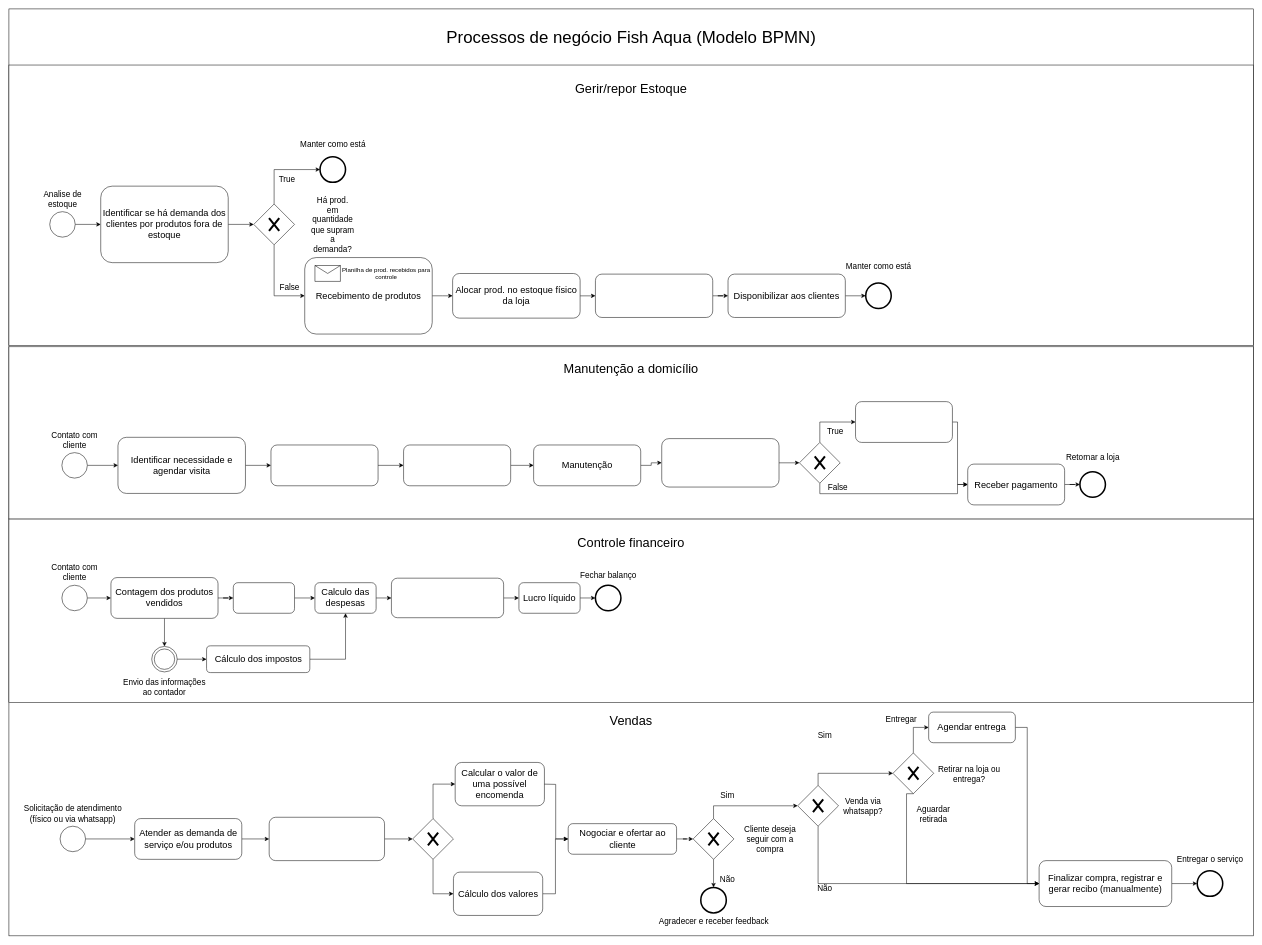
Some shapes in this 1262 by 945 pixel diagram are drawn without their labels. Here are the shapes that lost their labels. From the top down, the centre of each, then its label:
At (x=654, y=295): "Precificação manual dos produtos (sem código de barras)".
At (x=903, y=421): "Agendar nova visita".
At (x=324, y=465): "Separar equipamentos".
At (x=457, y=465): "Locomover-se ao espaço".
At (x=720, y=462): "Verificar a necessidade de reagendar nova visita".
At (x=264, y=597): "Cálculo do lucro bruto".
At (x=447, y=598): "Pagar dívidas e criar reserva para compra de mercadoria".
At (x=327, y=839): "Verificar manualmente se o estoque tem produtos".
